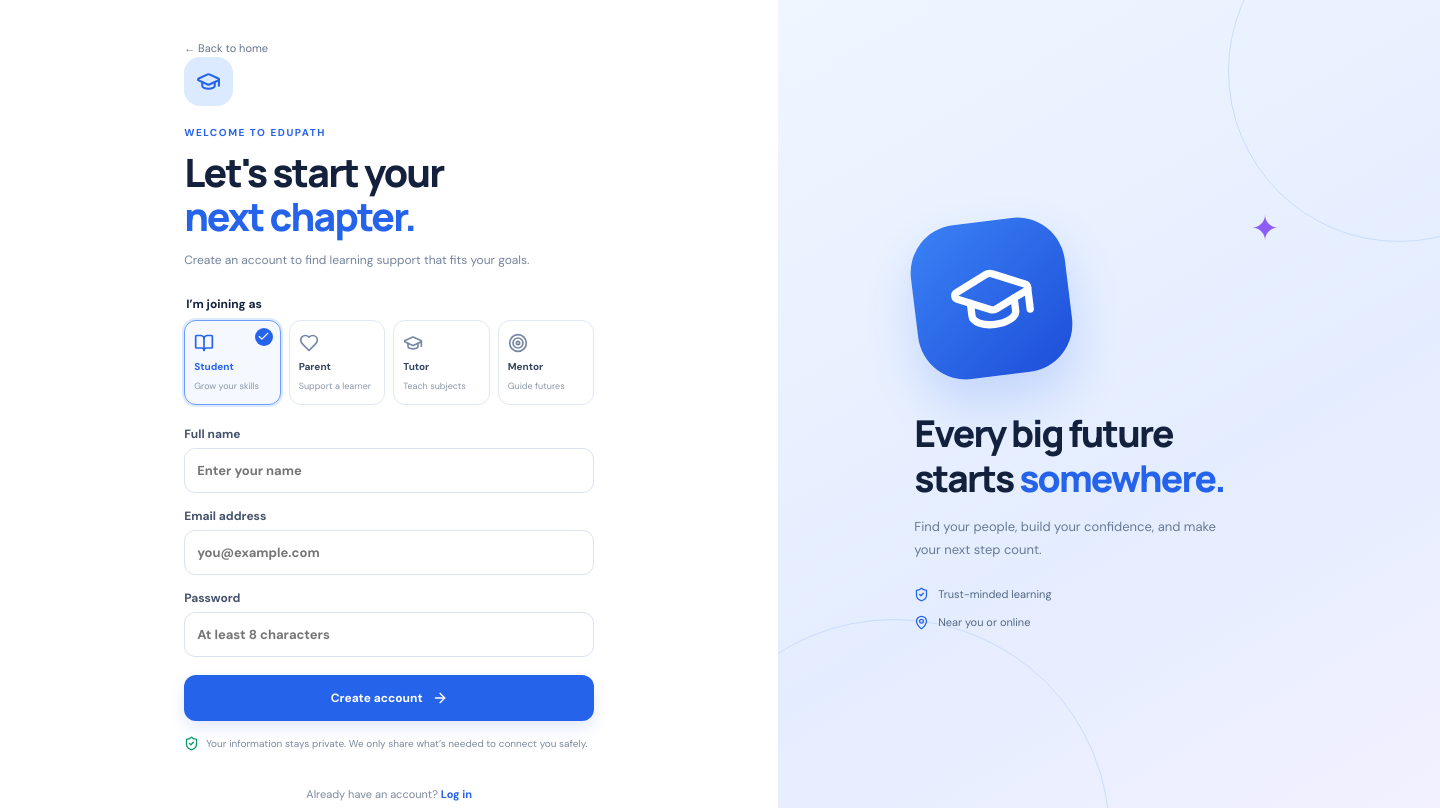
Test: sign up › rejects short passwords client-side
Type "Sara Bekele" into the field labelled "Full name" at (389, 470), box [184,448,594,493]
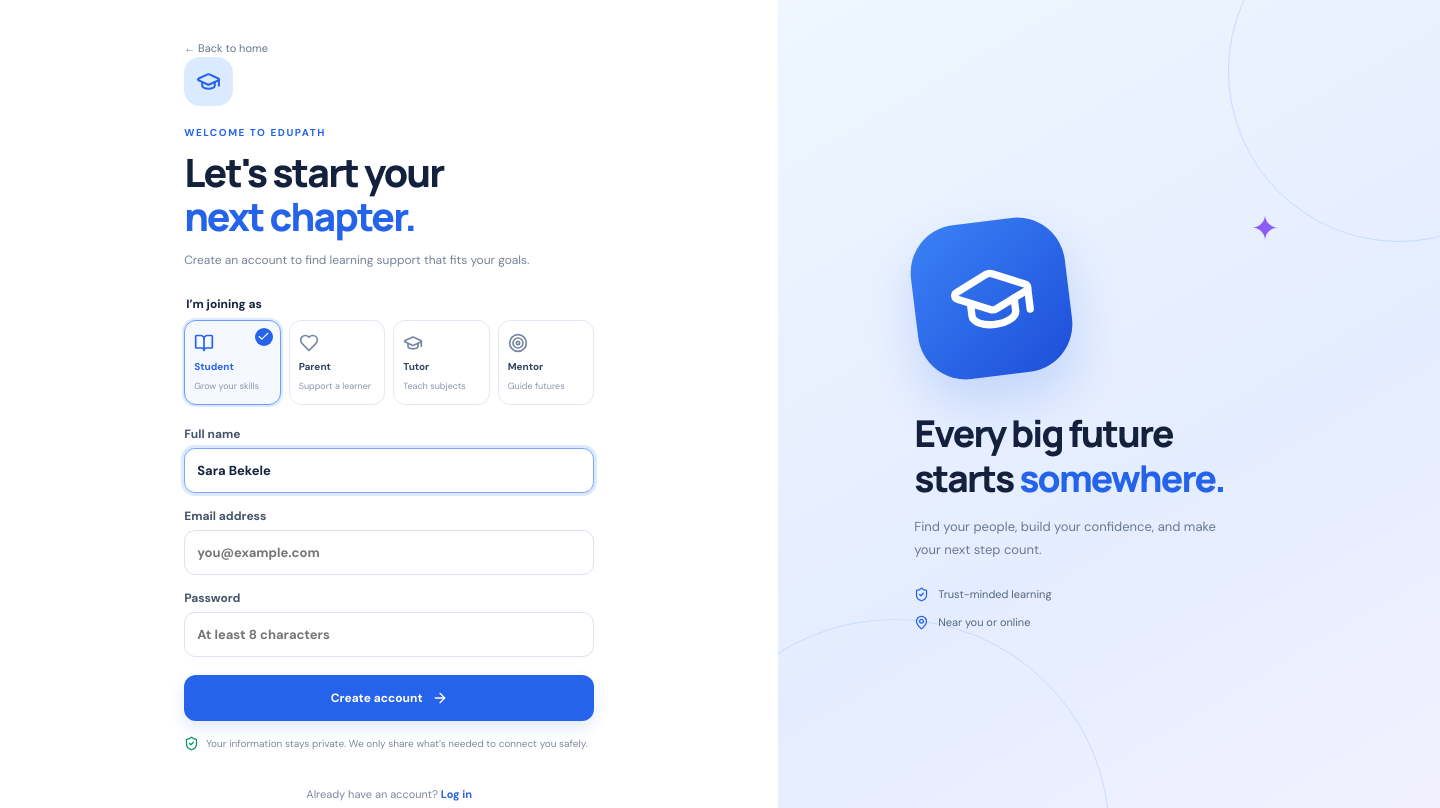
Type "sara@example.et" into the field labelled "Email address" at (389, 552), box [184,530,594,575]
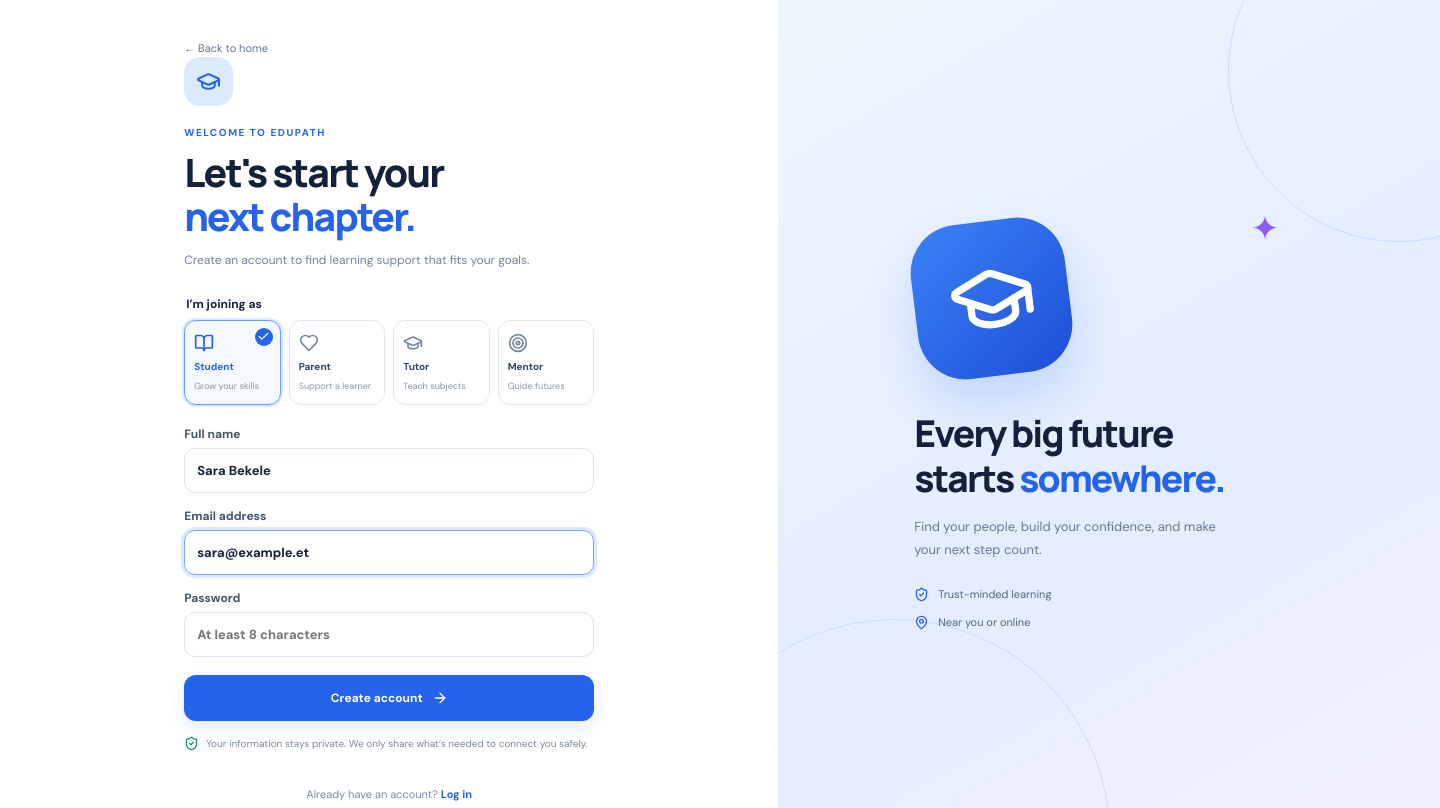
Type "short" into the password field labelled "Password" at (389, 634), box [184,612,594,657]
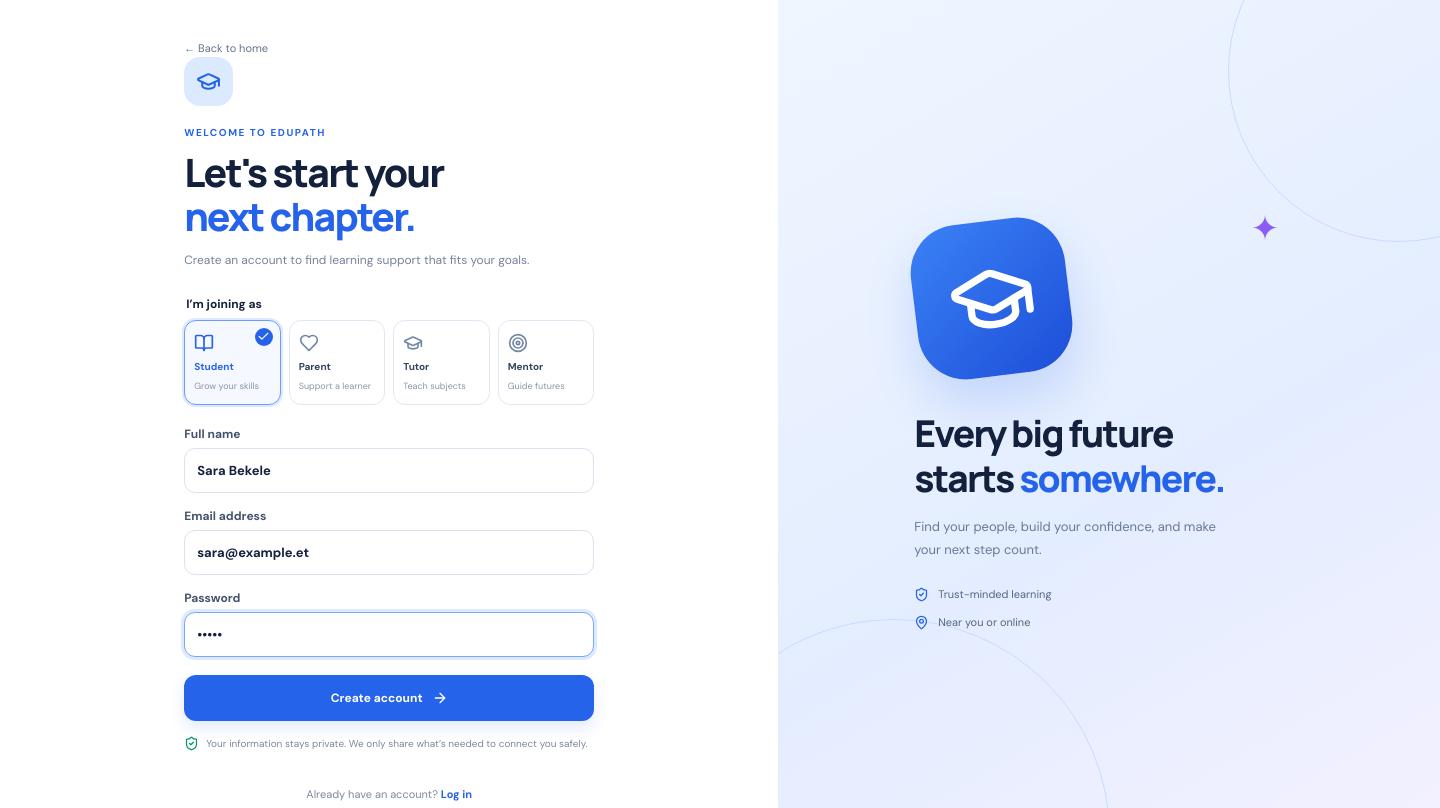
Click the button "Create account" at (389, 698), box [184,675,594,721]
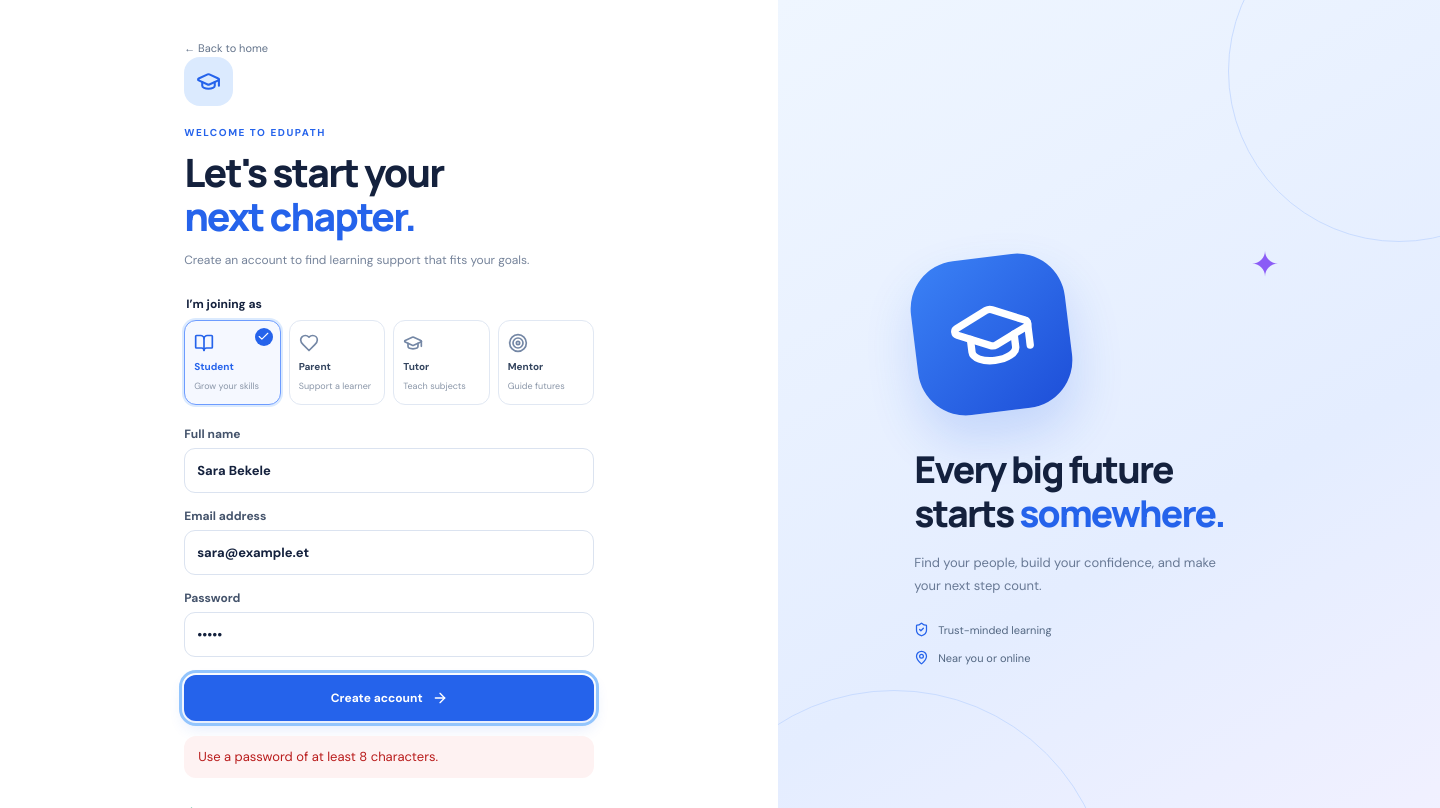
Expected: the message shows "at least 8", [198,748,438,765]
